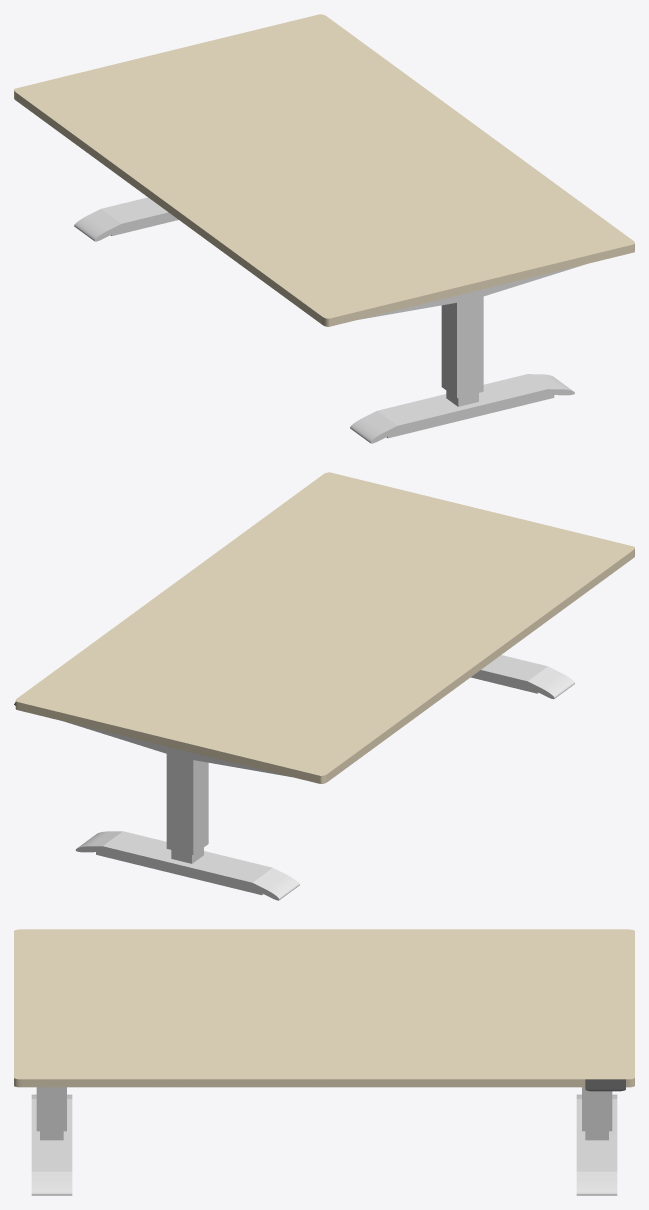
File: Desk.fbx
3 views of the same model, one above another, from view 1: azimuth 30°, elevation 25°; view 2: azimuth 150°, elevation 25°; view 3: azimuth 270°, elevation 25° (orthographic).
Visible parts, largest first — view 1: DeskPartTop, DeskPartBottom, DeskLegPart; view 2: DeskPartTop, DeskPartBottom, DeskLegPart; view 3: DeskPartTop, DeskPartBottom, DeskLegPart, RemoteControl.
Part boxes in pixels (<box>): DeskPartTop: <box>14,14,634,326</box>; DeskPartBottom: <box>74,197,574,443</box>; DeskLegPart: <box>360,264,585,397</box>; DeskPartTop: <box>15,472,634,783</box>; DeskPartBottom: <box>75,655,574,900</box>; DeskLegPart: <box>66,722,290,854</box>; DeskPartTop: <box>14,929,634,1087</box>; DeskPartBottom: <box>31,1094,617,1195</box>; DeskLegPart: <box>36,1087,612,1131</box>; RemoteControl: <box>585,1079,625,1091</box>.
Bounding box in the file's own units: 162 × 70.9 × 280.
